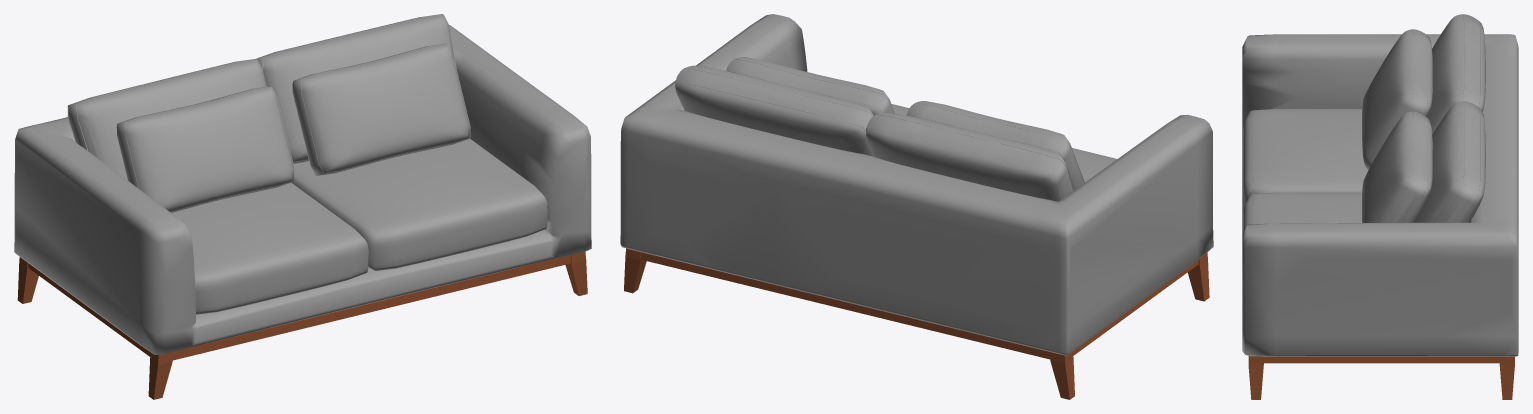
File: loveseat.glb
The picture shows the model from 3 angles, left to right: view 1: azimuth 30°, elevation 25°; view 2: azimuth 150°, elevation 25°; view 3: azimuth 270°, elevation 25°; orthographic projection. The views are drawn at different scales.
Visible parts, largest first — view 1: Sim Loveseat; view 2: Sim Loveseat; view 3: Sim Loveseat.
Boxes of the visible parts, box(x1,y1,x2,y2) form: Sim Loveseat: box(14, 14, 591, 399); Sim Loveseat: box(620, 14, 1213, 399); Sim Loveseat: box(1242, 14, 1518, 399).
Size of the model in its own units: 1.82 by 0.83 by 1.04.
Materials: 1 (1 with a texture image).
